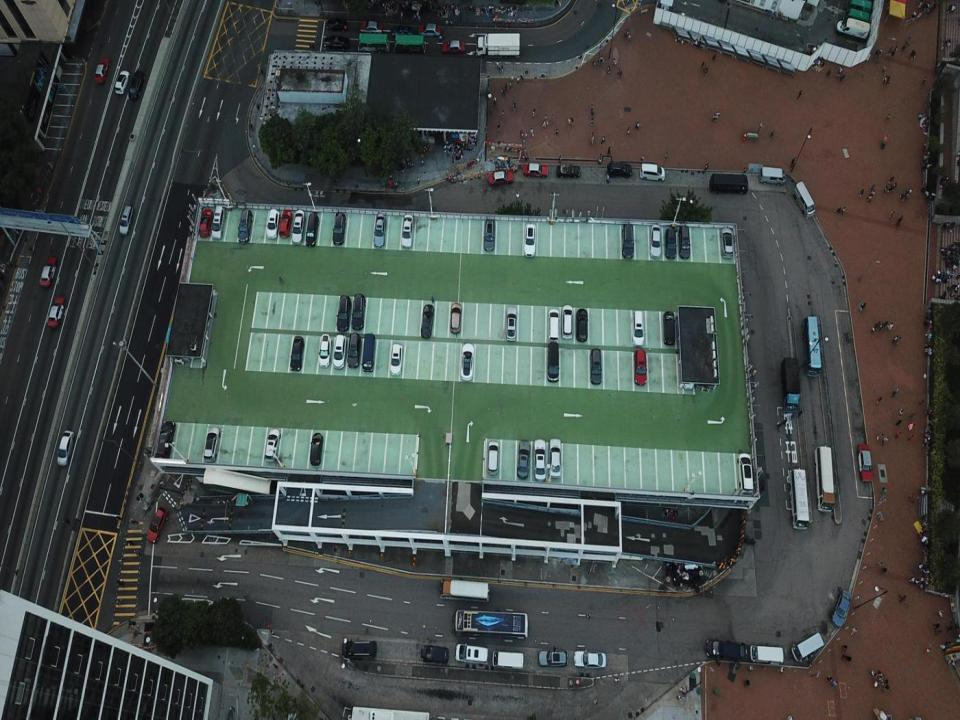bus: (453, 610, 528, 640), (800, 316, 822, 376), (815, 446, 835, 512), (439, 578, 489, 603), (789, 468, 809, 530), (350, 705, 430, 719), (358, 32, 389, 53), (393, 34, 425, 54)
car: (706, 640, 750, 660), (146, 506, 168, 543), (831, 588, 850, 630), (737, 452, 754, 496), (157, 421, 176, 460), (341, 638, 376, 658), (455, 644, 488, 664), (56, 430, 73, 465), (573, 650, 606, 668), (493, 650, 524, 669), (534, 437, 547, 481), (857, 444, 872, 482), (336, 294, 351, 331), (420, 645, 449, 664), (204, 427, 220, 461), (633, 349, 647, 387), (40, 257, 57, 288), (237, 208, 252, 243), (352, 293, 366, 330), (548, 439, 562, 476), (48, 295, 64, 327), (317, 334, 332, 368), (538, 648, 567, 665), (420, 304, 434, 339), (505, 305, 518, 342), (517, 439, 529, 479), (265, 428, 279, 461), (332, 211, 346, 244), (590, 348, 602, 386), (291, 336, 304, 371), (390, 342, 403, 376), (333, 334, 346, 368), (522, 223, 535, 257), (130, 71, 144, 102), (622, 223, 634, 259), (401, 215, 414, 248), (348, 333, 360, 368), (374, 213, 386, 248), (293, 209, 305, 244), (310, 432, 323, 464), (305, 214, 318, 246), (576, 308, 588, 342), (663, 312, 675, 346), (266, 209, 280, 238), (462, 343, 473, 379), (488, 170, 514, 185), (665, 226, 676, 261), (94, 58, 110, 82), (114, 70, 130, 94), (548, 308, 559, 342), (650, 224, 661, 258), (483, 219, 495, 250), (522, 164, 548, 178), (450, 304, 462, 334), (607, 163, 631, 178), (721, 228, 733, 258), (324, 37, 349, 51), (557, 163, 580, 178), (199, 208, 211, 236), (441, 40, 465, 54), (682, 362, 694, 390), (562, 305, 572, 338), (488, 441, 498, 474), (418, 22, 440, 36), (680, 225, 689, 259), (280, 211, 291, 238), (359, 20, 383, 32), (326, 19, 348, 32), (392, 26, 412, 38)
truck: (477, 34, 520, 58), (781, 358, 800, 412)
van: (790, 633, 824, 662), (710, 173, 748, 194), (793, 182, 815, 218), (836, 19, 870, 39), (750, 647, 783, 664), (546, 342, 559, 382), (759, 166, 786, 185), (362, 332, 374, 372), (842, 9, 871, 25), (631, 310, 644, 345), (640, 163, 665, 181), (119, 204, 133, 236), (213, 206, 224, 238), (846, 0, 873, 13)
